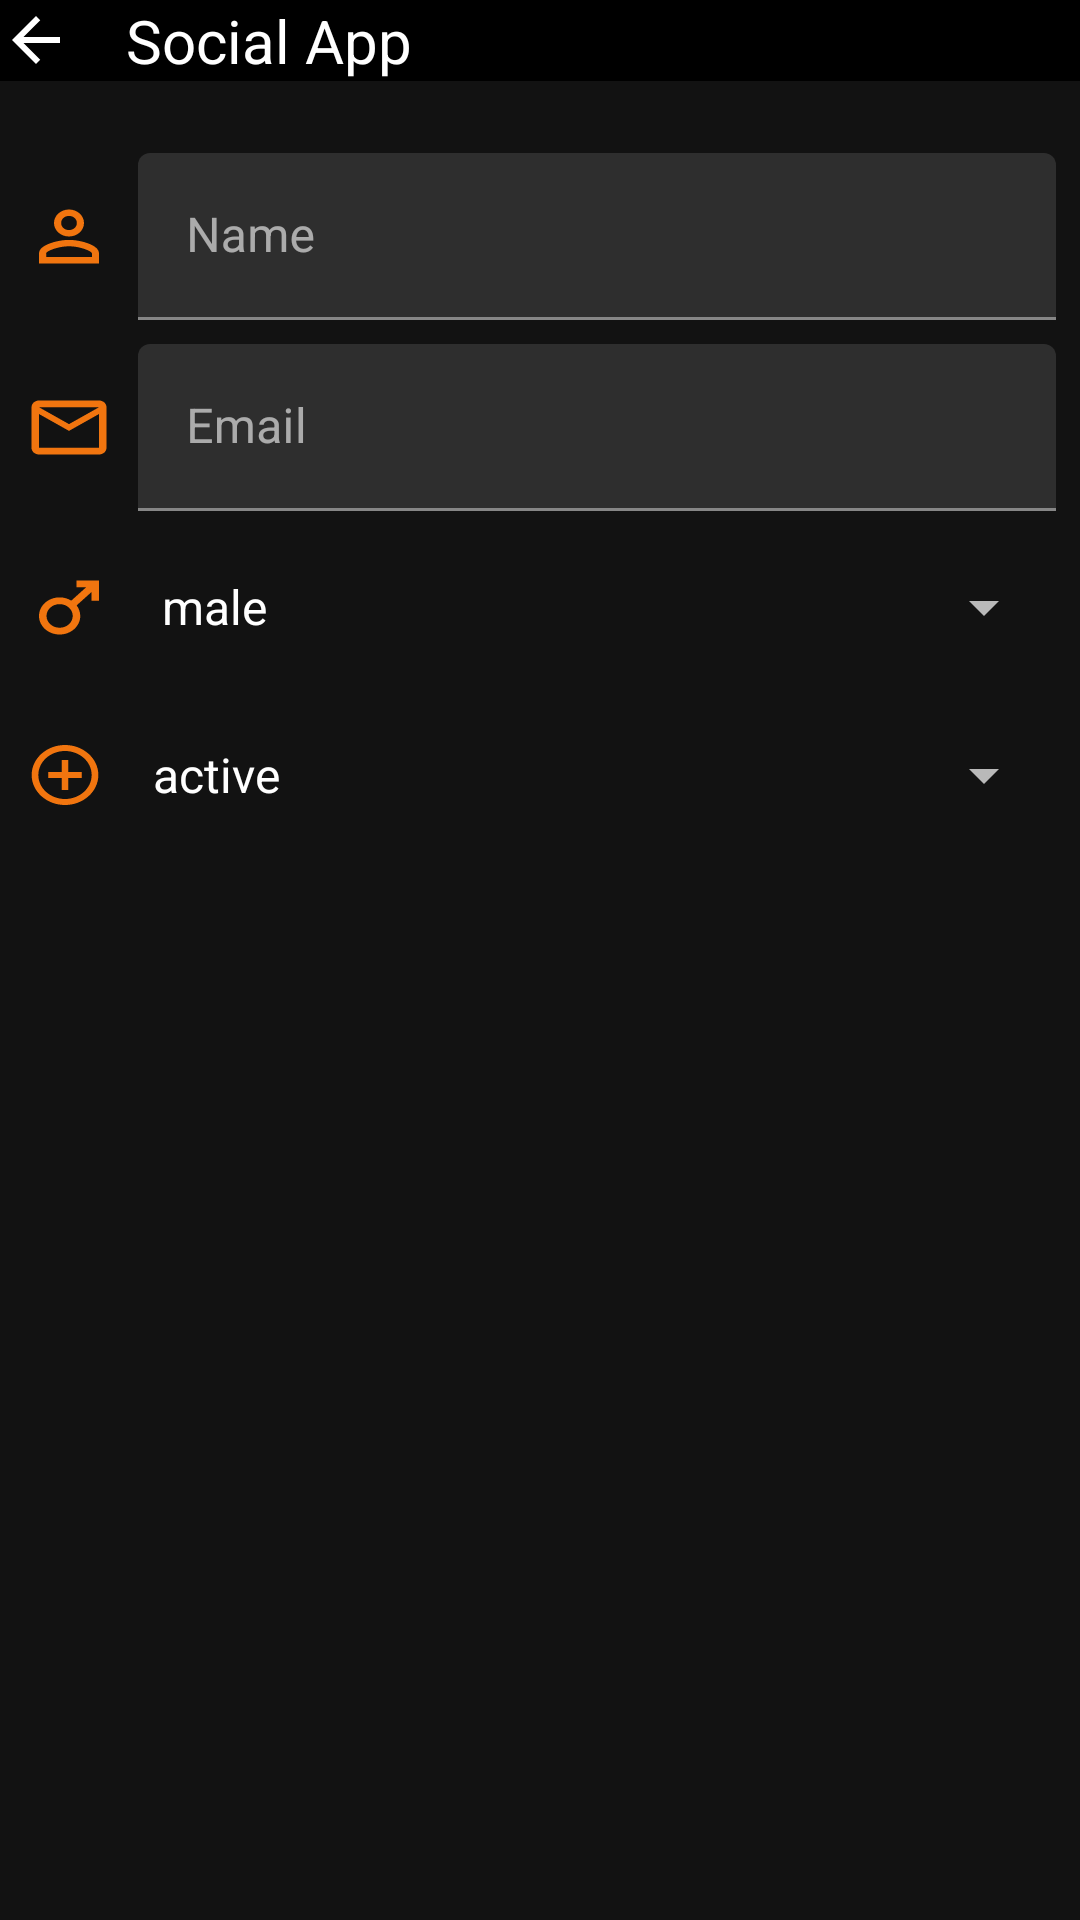

Where to tap for icons on this 1080×1920 app screen, as [x,y]:
arrow back: [36,40]
control point: [65,775]
person: [69,236]
